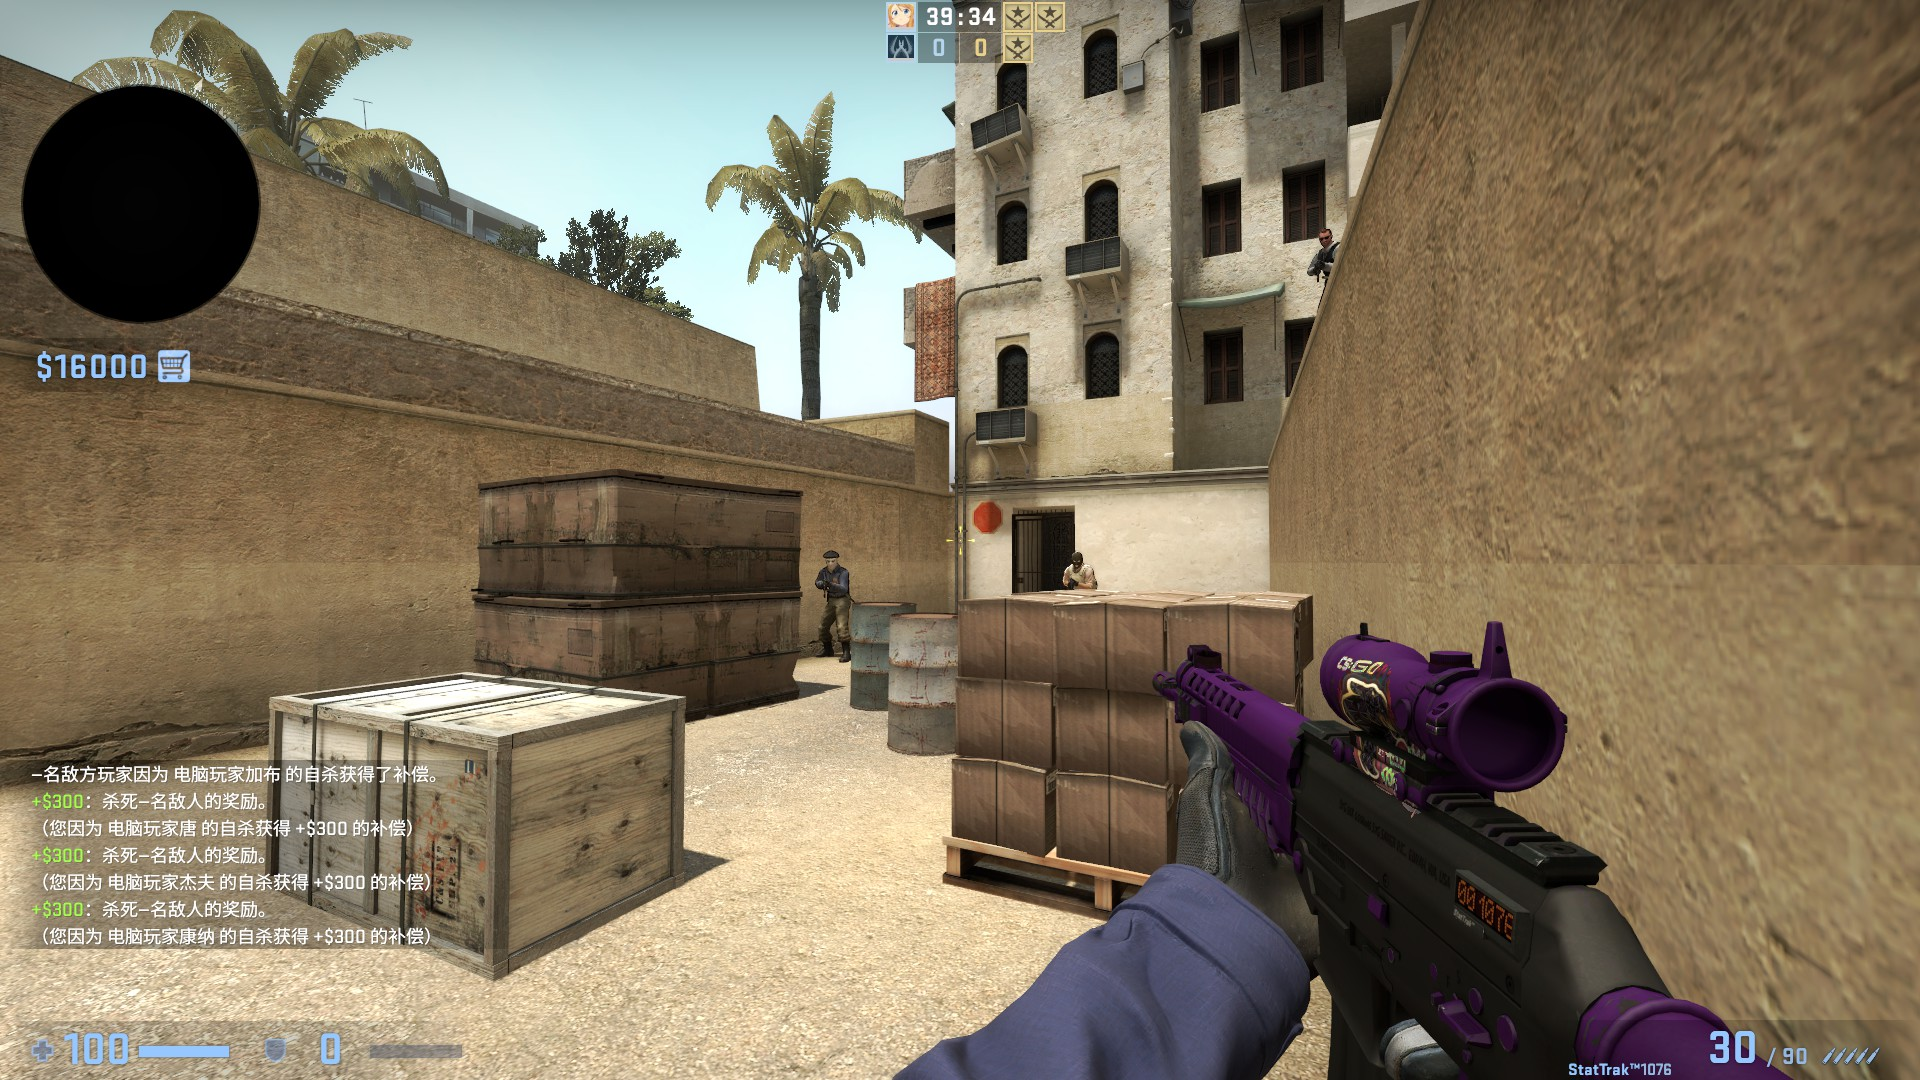head: (821, 549, 839, 570), (1316, 226, 1333, 247), (1069, 551, 1085, 570)
